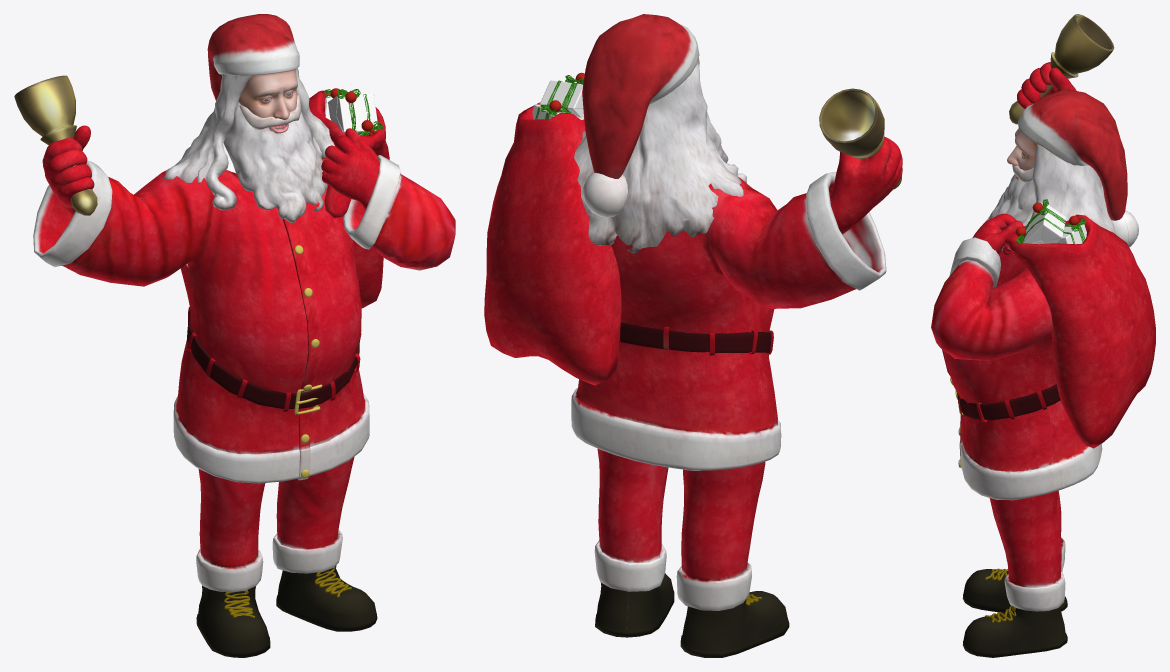
File: santa_model.glb
3 renders of one model, left to right at view 1: azimuth 30°, elevation 25°; view 2: azimuth 150°, elevation 25°; view 3: azimuth 270°, elevation 25°, orthographic. The views are drawn at different scales.
Parts seen in each view (by area): view 1: Mod_Santa; view 2: Mod_Santa; view 3: Mod_Santa.
Boxes of the visible parts, x1,y1,x2,y2 form: Mod_Santa: (14,14,455,657); Mod_Santa: (484,14,902,657); Mod_Santa: (931,14,1155,657).
Bounding box in the file's own units: 1.96 × 2.97 × 1.14.
Materials: 1 (1 with a texture image).
